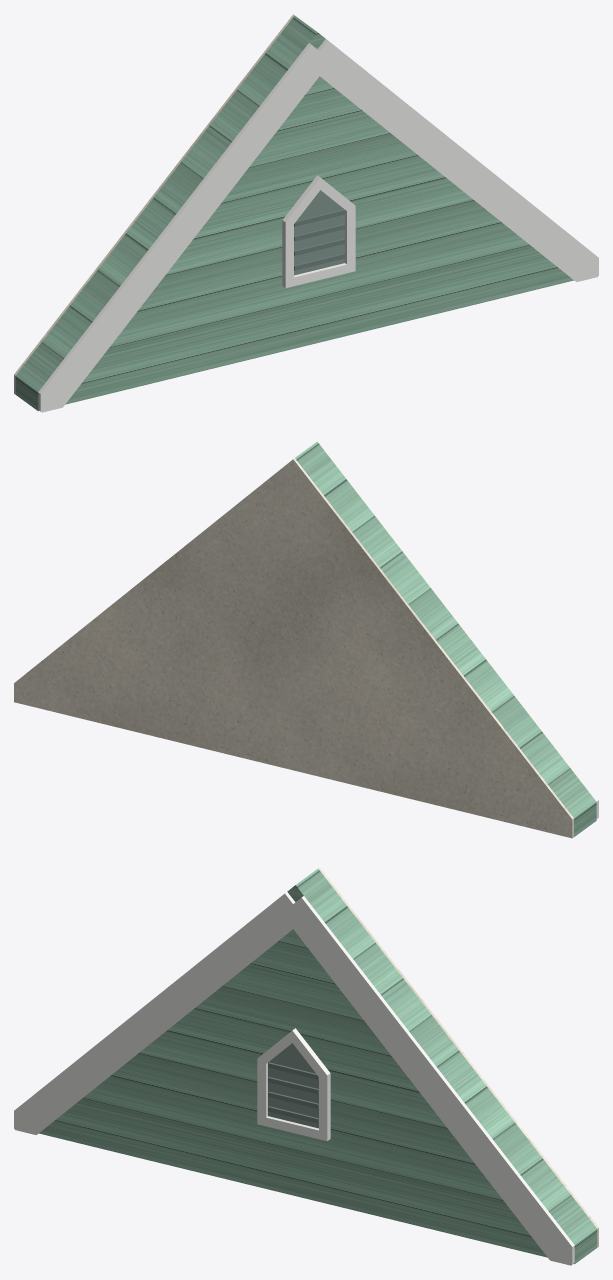
File: gable_c.glb
3 views of the same model, one above another, from view 1: azimuth 30°, elevation 25°; view 2: azimuth 150°, elevation 25°; view 3: azimuth 330°, elevation 25° (orthographic).
Parts seen in each view (by area): view 1: gable_c_siding_c, gable_c_trim, gable_c_shutter, gable_c_shutter_dark, gable_c_plaster; view 2: gable_c_plaster, gable_c_siding_c, gable_c_trim; view 3: gable_c_siding_c, gable_c_trim, gable_c_shutter, gable_c_shutter_dark, gable_c_plaster.
Boxes of the visible parts, x1,y1,x2,y2 form: gable_c_siding_c: (15,15,573,411); gable_c_trim: (38,39,598,412); gable_c_shutter: (294,190,344,275); gable_c_shutter_dark: (294,209,344,270); gable_c_plaster: (14,14,294,394); gable_c_plaster: (14,458,573,838); gable_c_siding_c: (295,441,596,836); gable_c_trim: (326,451,598,818); gable_c_siding_c: (39,868,597,1264); gable_c_trim: (14,892,574,1265); gable_c_shutter: (268,1043,318,1128); gable_c_shutter_dark: (268,1062,318,1123); gable_c_plaster: (318,867,598,1247).
Size of the model in its own units: 4 by 2.13 by 0.34.
5 materials, 2 textured.
